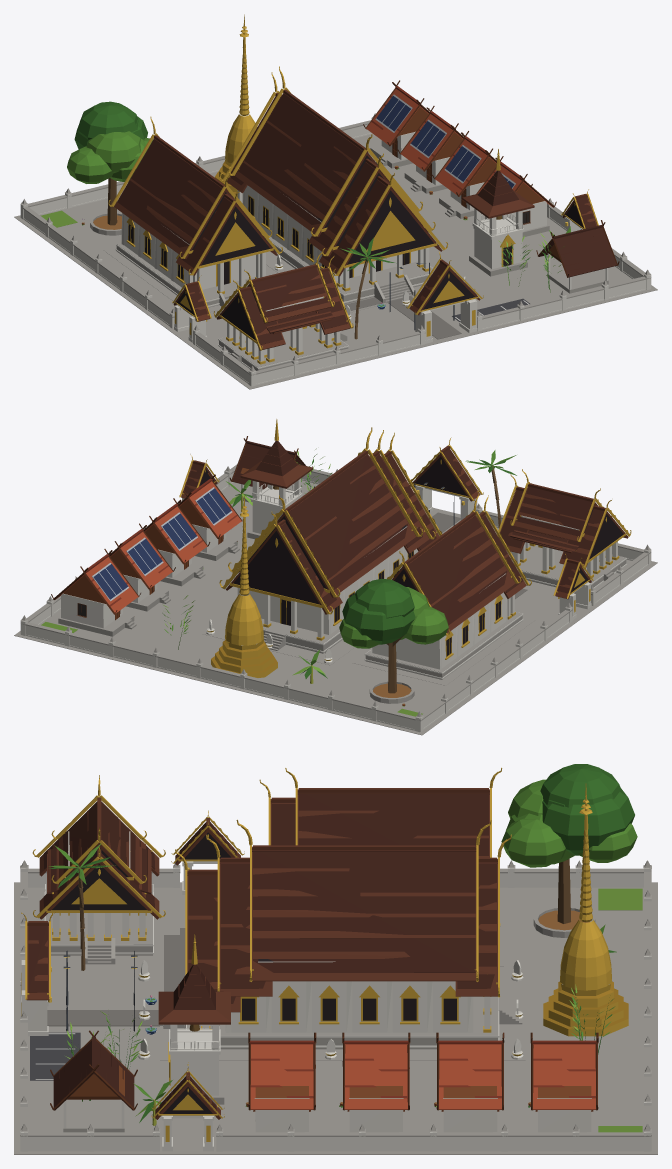
File: temple_3.glb
3 renders of one model, top to bottom at view 1: azimuth 30°, elevation 25°; view 2: azimuth 150°, elevation 25°; view 3: azimuth 270°, elevation 25°, orthographic. The views are drawn at different scales.
Parts seen in each view (by area): view 1: body; view 2: body; view 3: body.
Part boxes in pixels (x1,y1,x2,y2): body: [14, 14, 657, 389]; body: [14, 419, 657, 735]; body: [14, 764, 657, 1154].
Bounding box in the file's own units: 47.9 × 19.6 × 47.9.
